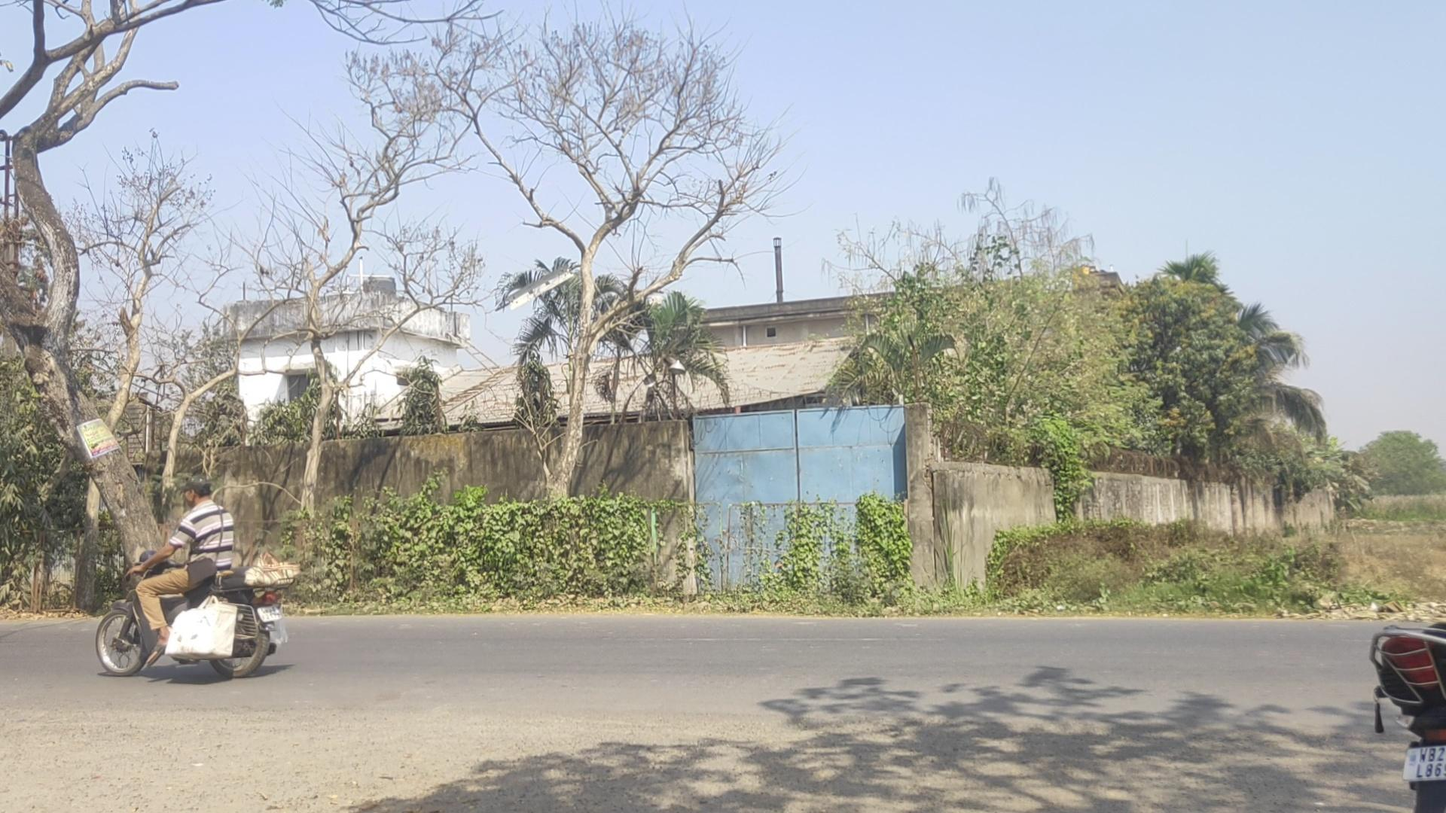bike: (95, 477, 298, 680)
